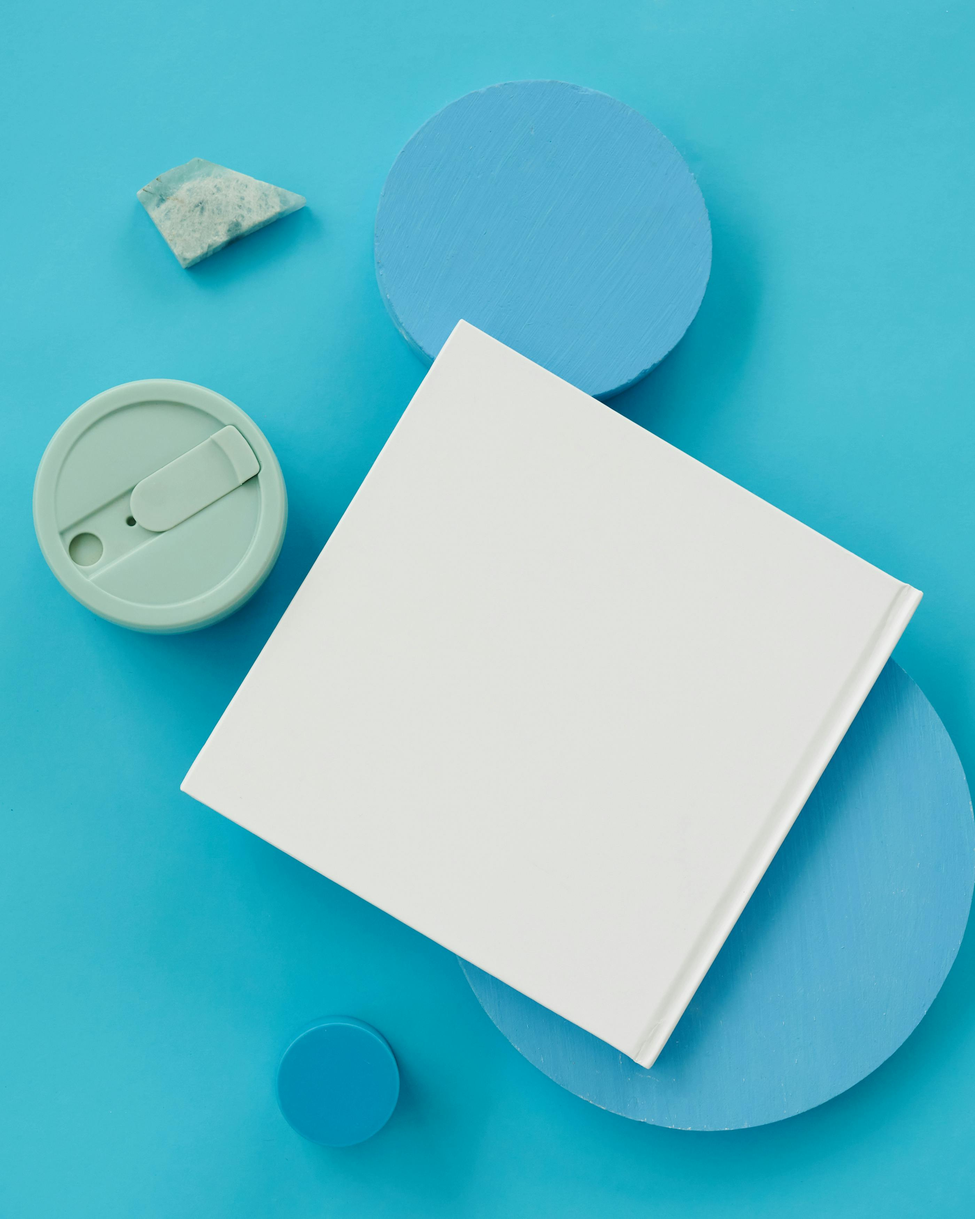paper: (180, 317, 925, 1068)
